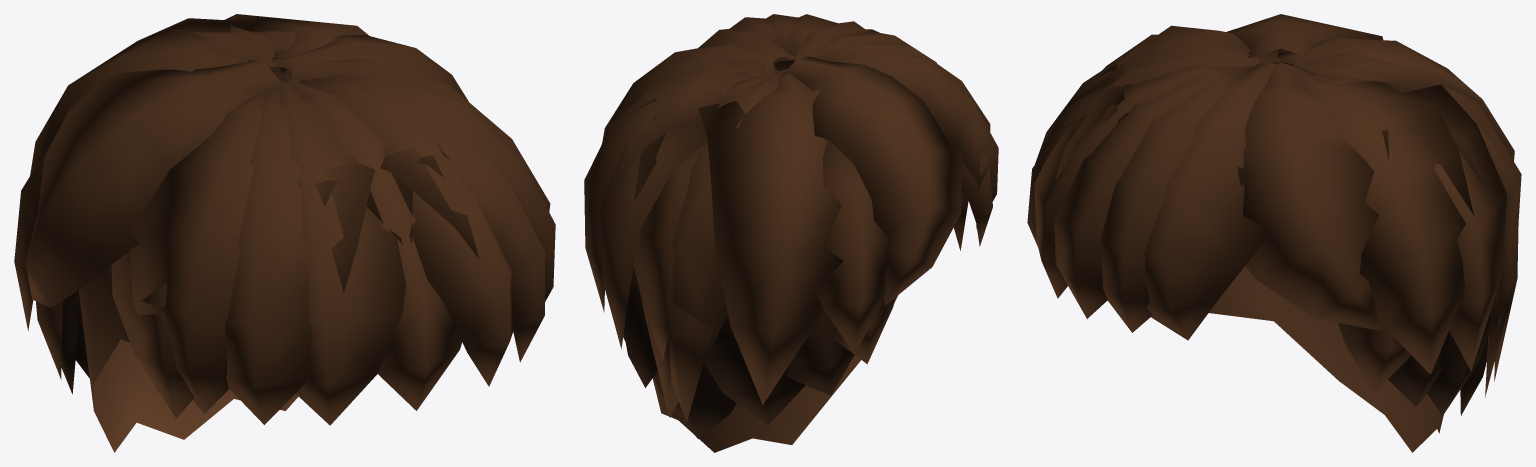
Rendered from hair_m_franja.glb.
3 renders of one model, left to right at view 1: azimuth 30°, elevation 25°; view 2: azimuth 150°, elevation 25°; view 3: azimuth 270°, elevation 25°, orthographic. The views are drawn at different scales.
Parts seen in each view (by area): view 1: HairTop, HairCap, HairUnder; view 2: HairTop, HairUnder, HairCap; view 3: HairTop, HairCap, HairUnder.
Boxes of the visible parts, box(x1,y1,x2,y2) form: HairTop: box(14, 14, 555, 425); HairCap: box(78, 265, 298, 452); HairUnder: box(61, 290, 89, 394); HairTop: box(584, 14, 998, 422); HairUnder: box(623, 267, 854, 439); HairCap: box(652, 295, 897, 452); HairTop: box(1027, 14, 1521, 397); HairCap: box(1209, 266, 1443, 452); HairUnder: box(1388, 310, 1491, 415).
Size of the model in its own units: 0.2317 by 0.2341 by 0.2757.
